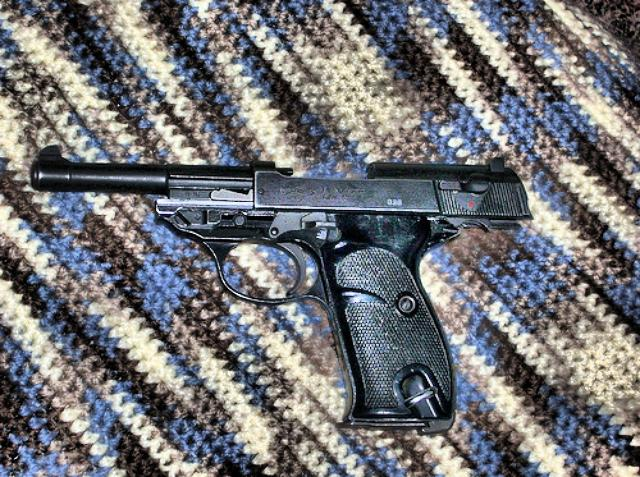pistol: (29, 142, 534, 433)
